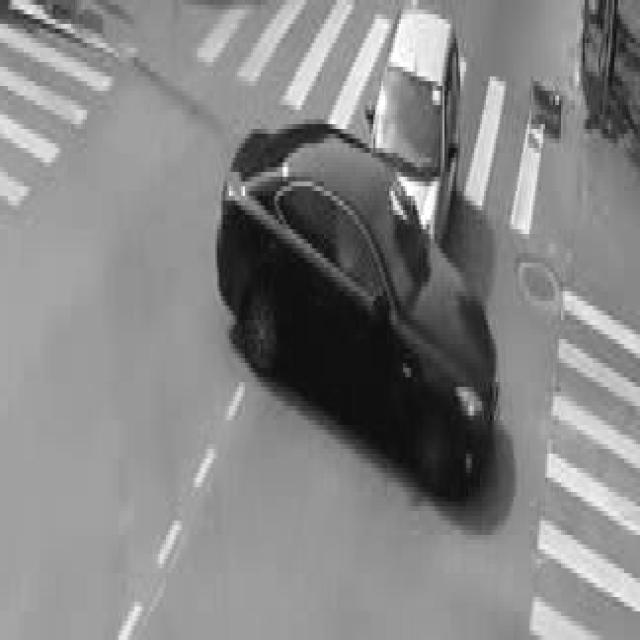accident: (212, 14, 502, 500)
